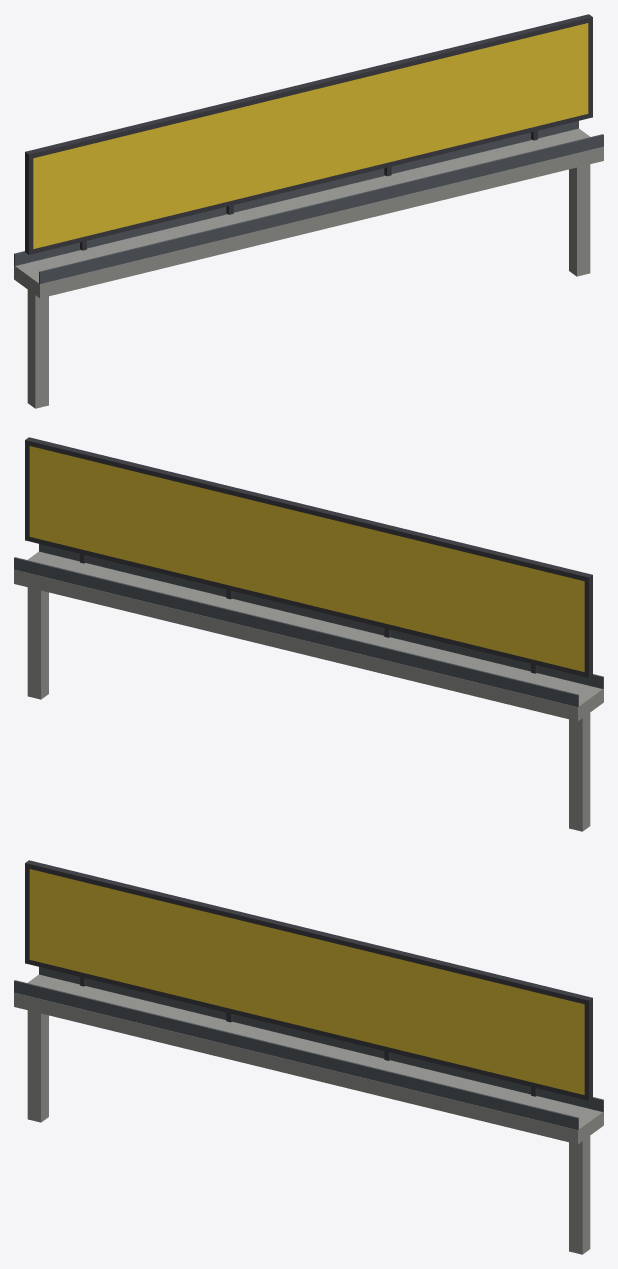
Rendered from overpass.obj.
3 renders of one model, top to bottom at view 1: azimuth 30°, elevation 25°; view 2: azimuth 150°, elevation 25°; view 3: azimuth 330°, elevation 25°, orthographic.
Parts seen in each view (by area): view 1: overpass; view 2: overpass; view 3: overpass.
Boxes of the visible parts, left/top/right/bottom form: overpass: left=14, top=14, right=603, bottom=408; overpass: left=14, top=437, right=603, bottom=831; overpass: left=14, top=860, right=603, bottom=1254.
Size of the model in its own units: 50 by 21.5 by 4.
